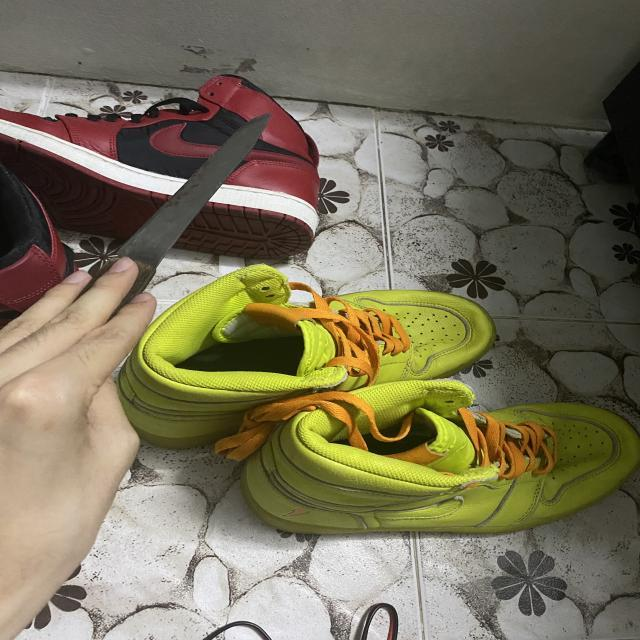faca: (23, 81, 270, 546)
